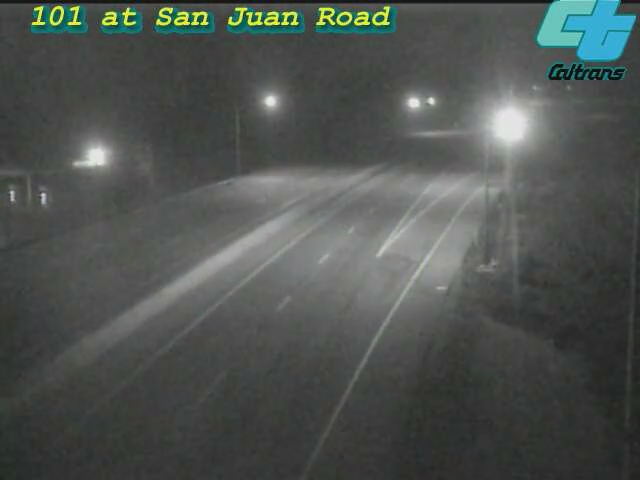vehicle: (485, 100, 535, 150)
